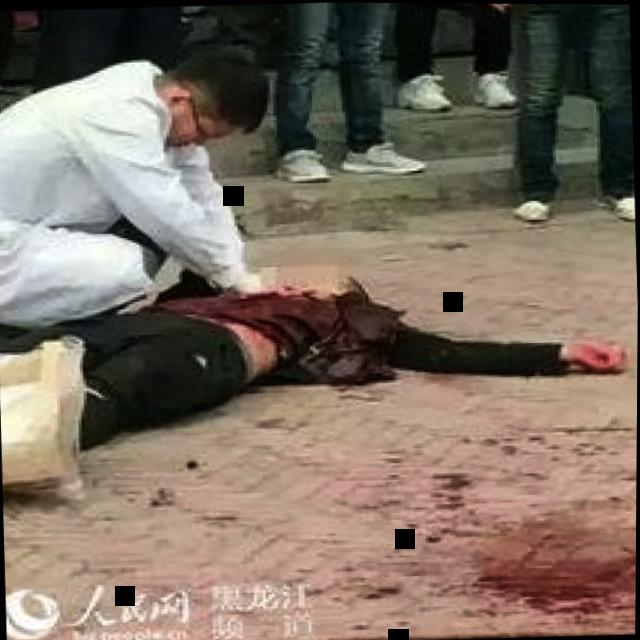Fall-Detected: (0, 238, 631, 470)
